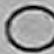no answer: (5, 5, 54, 51)
